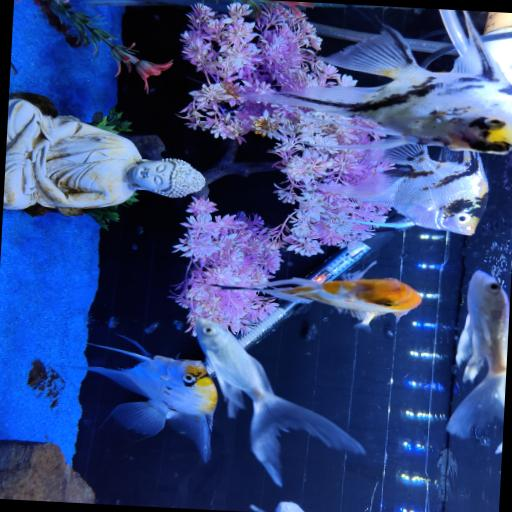Fish: (244, 9, 511, 153), (194, 318, 364, 485), (56, 336, 217, 461), (318, 144, 487, 234), (217, 261, 421, 328), (446, 270, 509, 437), (484, 38, 511, 83), (275, 501, 304, 511), (143, 321, 159, 334)
